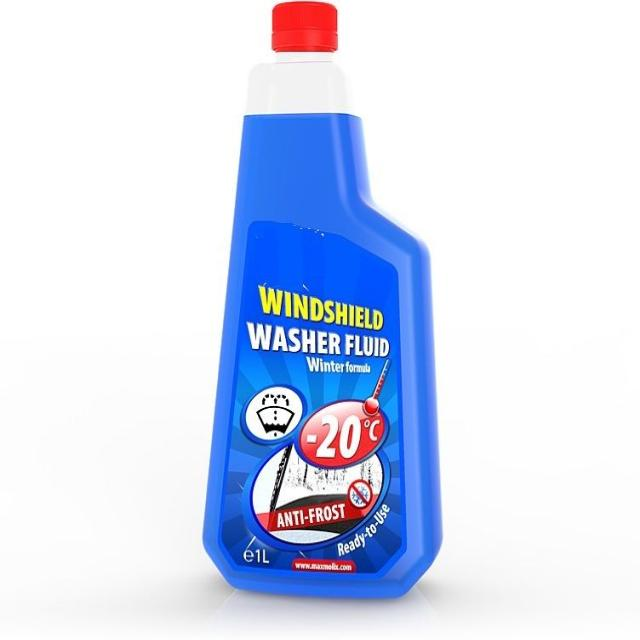winwinshield_washer: (201, 0, 446, 601)
